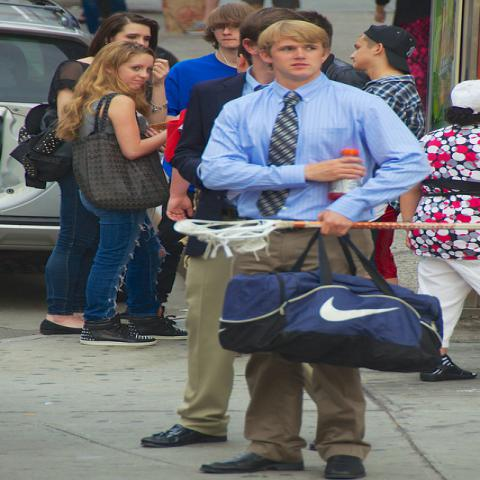car: (0, 2, 88, 254)
